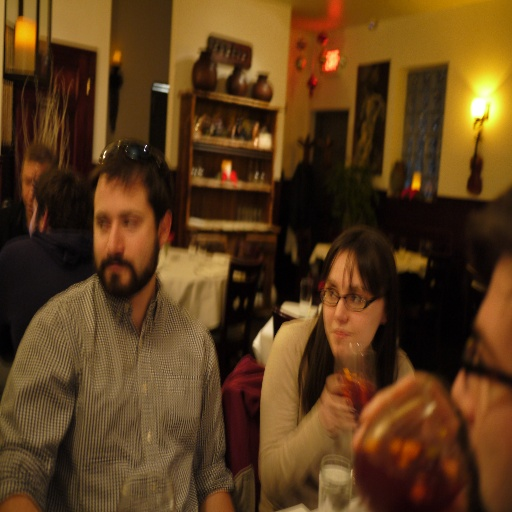hand: (319, 374, 356, 438)
